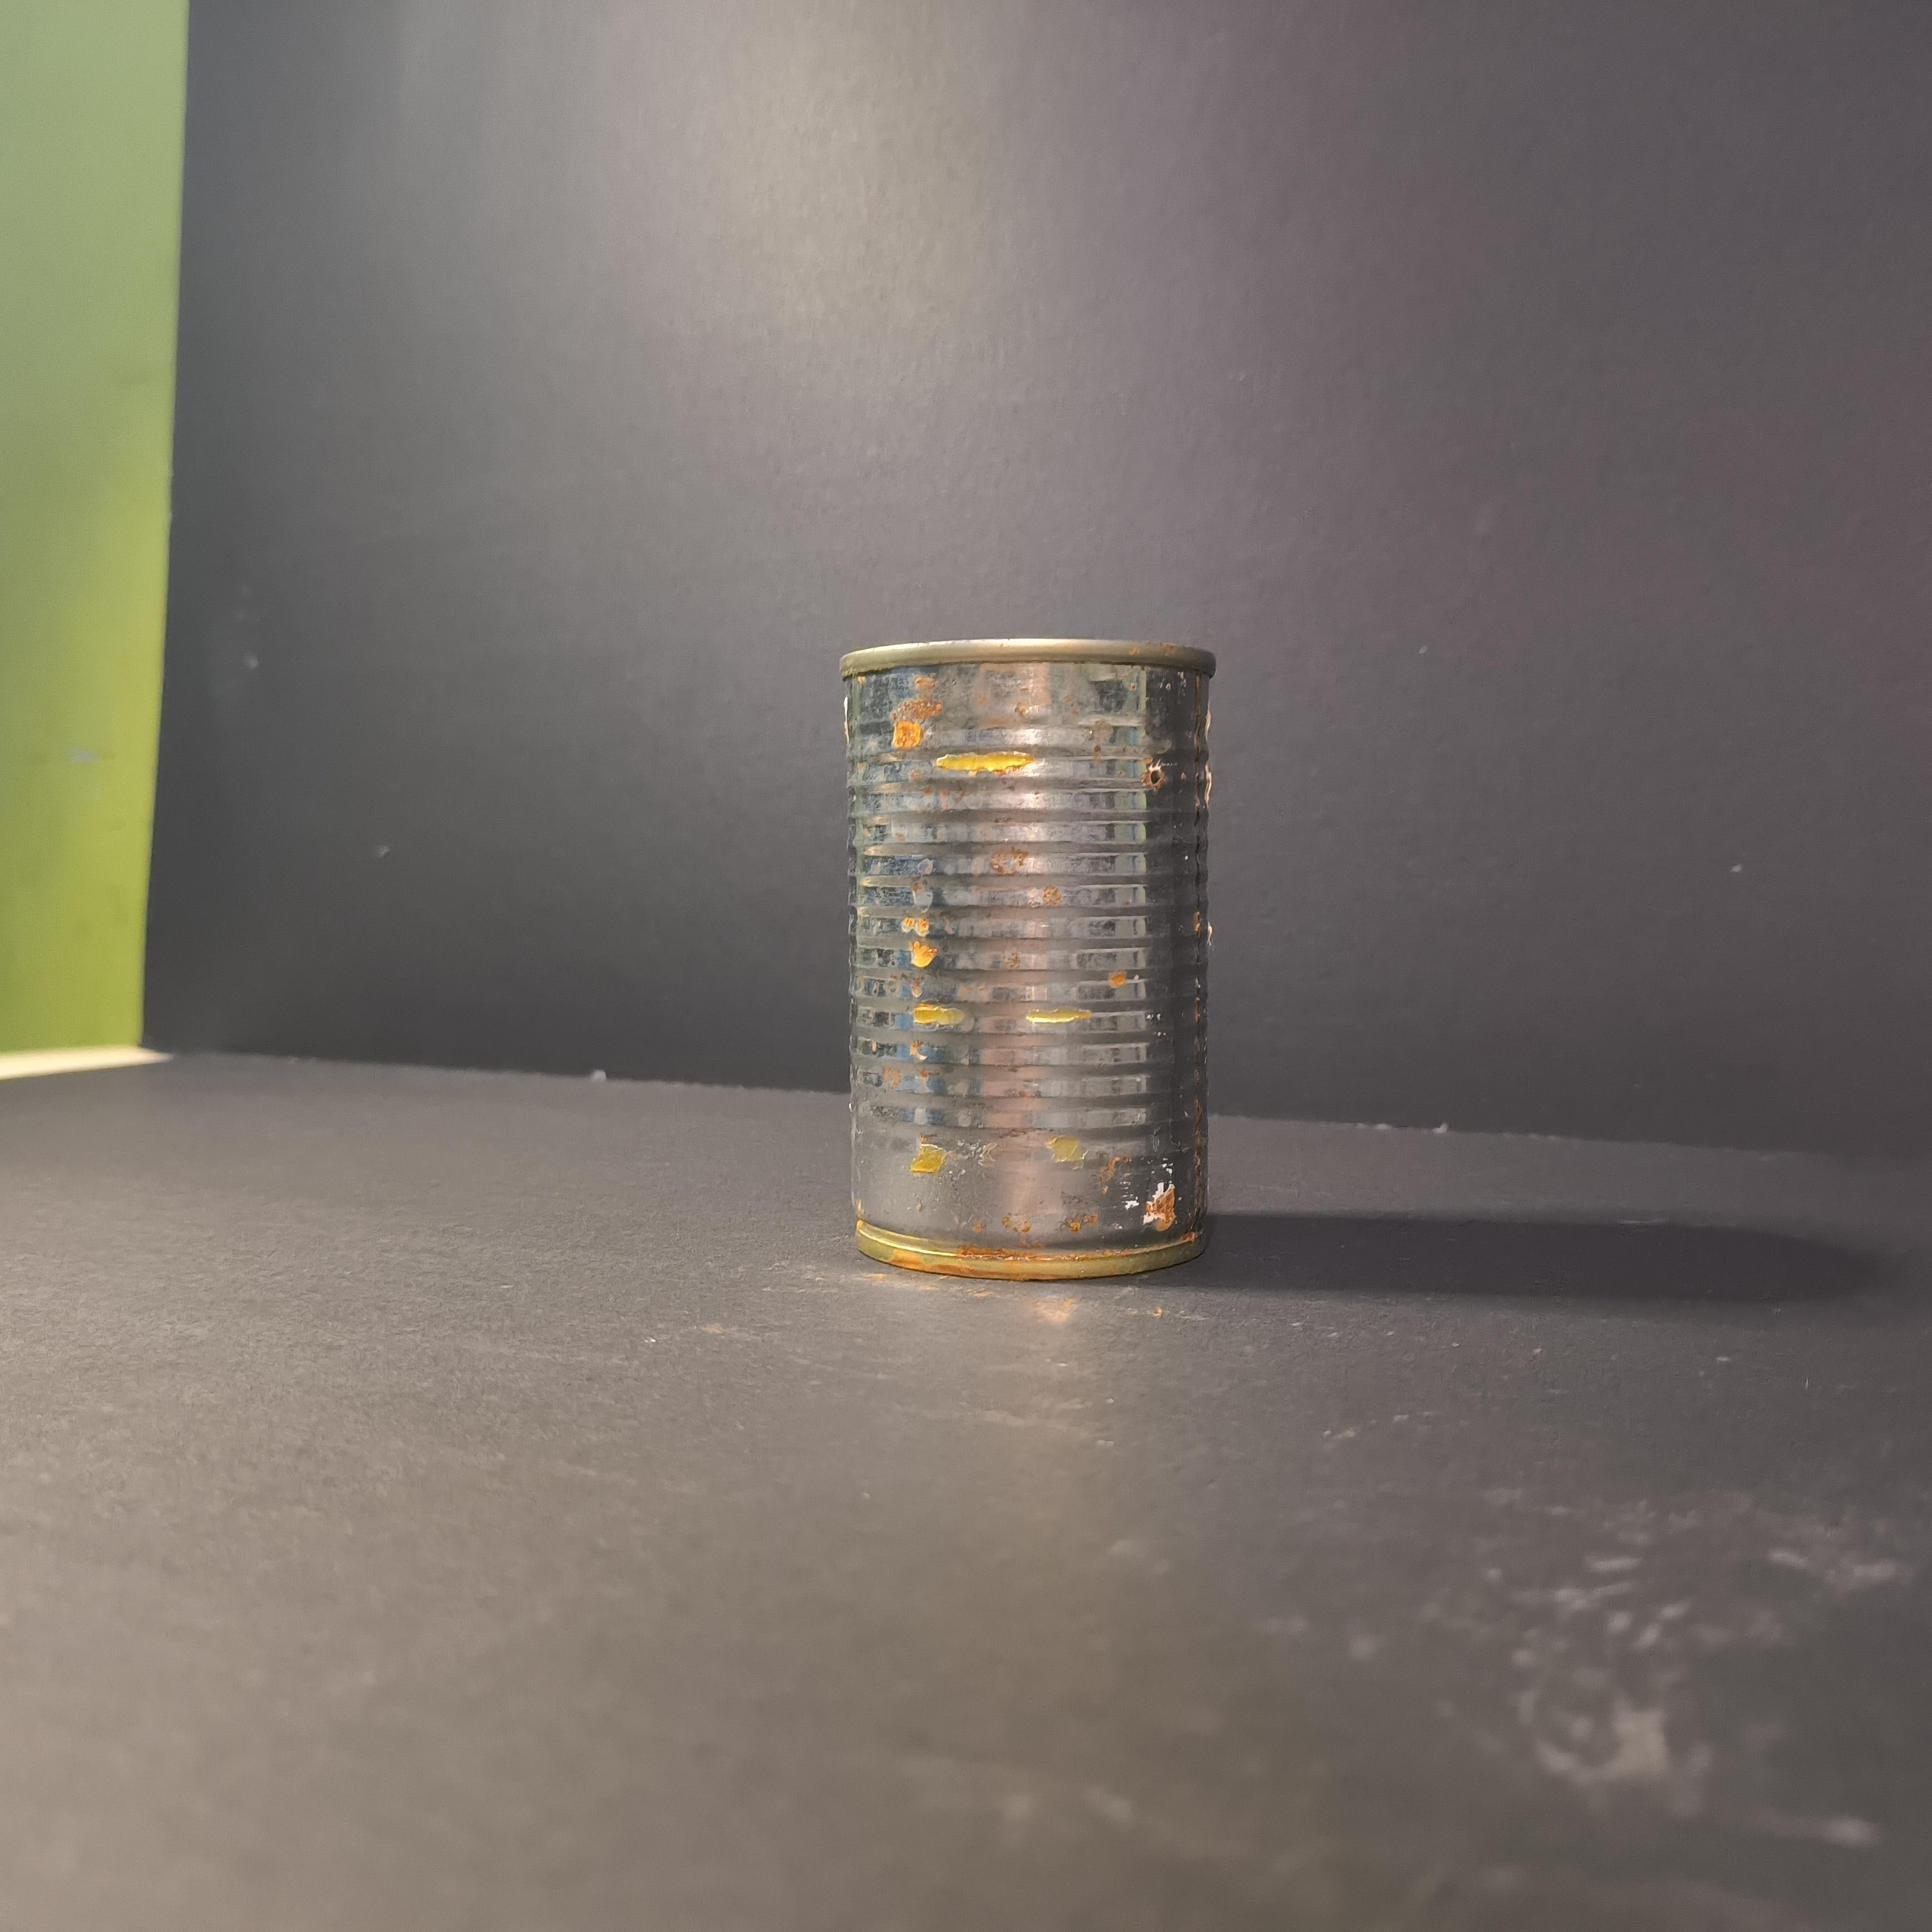Major Defect: (838, 637, 1217, 1281)
